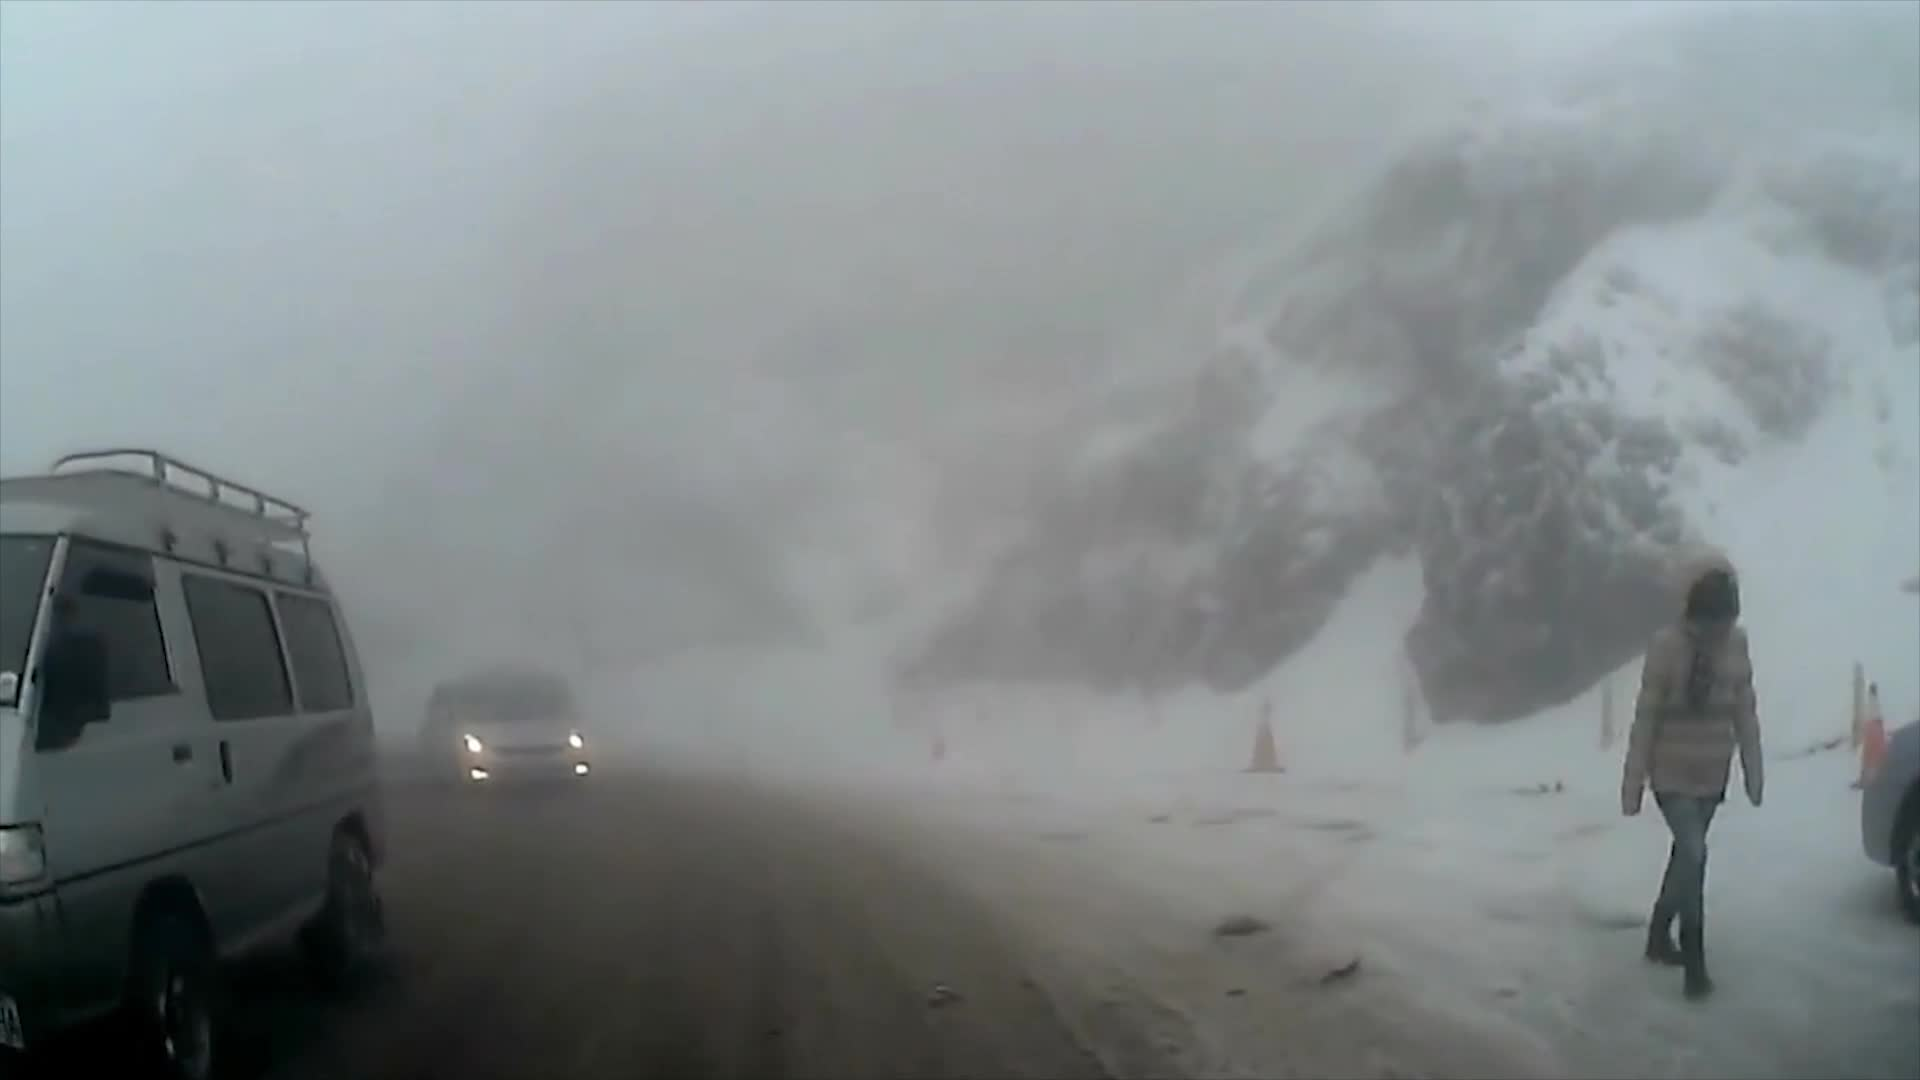pedestrian: (1615, 544, 1767, 1009)
vehicle: (0, 446, 396, 1080), (418, 672, 595, 800)
